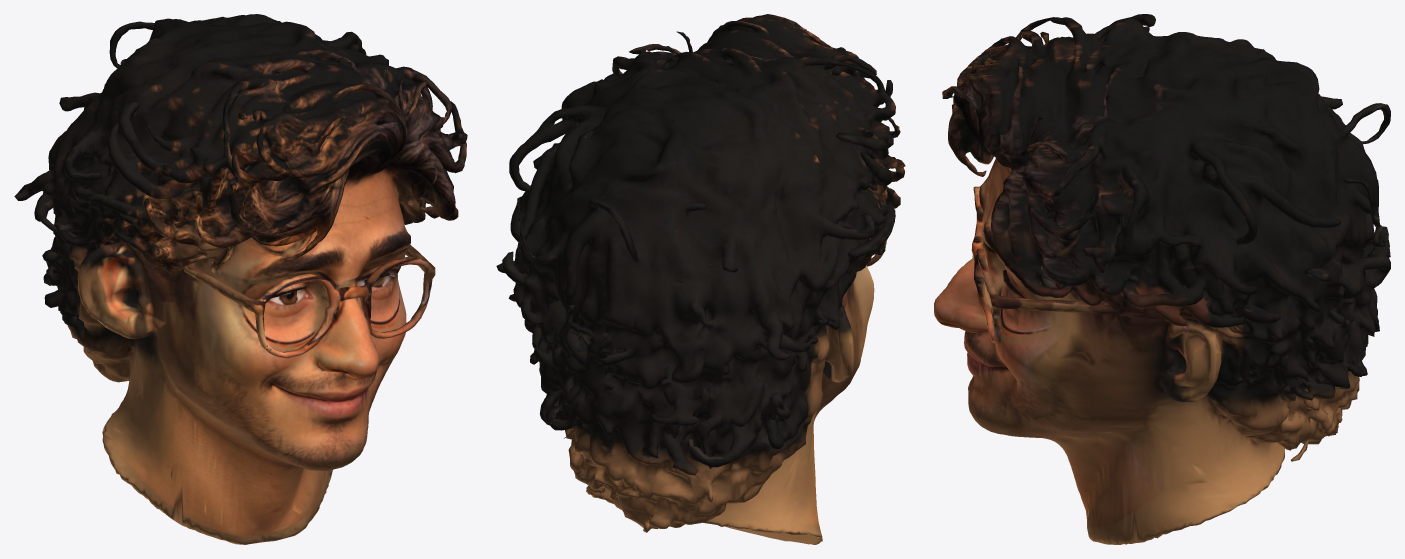
File: head-detailed.glb
3 renders of one model, left to right at view 1: azimuth 30°, elevation 25°; view 2: azimuth 150°, elevation 25°; view 3: azimuth 270°, elevation 25°, orthographic. The views are drawn at different scales.
Parts seen in each view (by area): view 1: PortraitHead_NormalSample; view 2: PortraitHead_NormalSample; view 3: PortraitHead_NormalSample.
Part boxes in pixels (x1,y1,x2,y2): PortraitHead_NormalSample: [14, 14, 467, 544]; PortraitHead_NormalSample: [496, 14, 905, 544]; PortraitHead_NormalSample: [934, 14, 1390, 544].
Size of the model in its own units: 1.45 by 1.94 by 1.65.
Materials: 1 (1 with a texture image).
